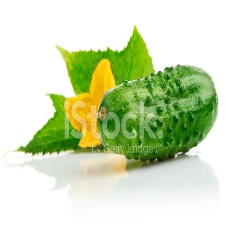cucumber: (96, 63, 219, 164)
